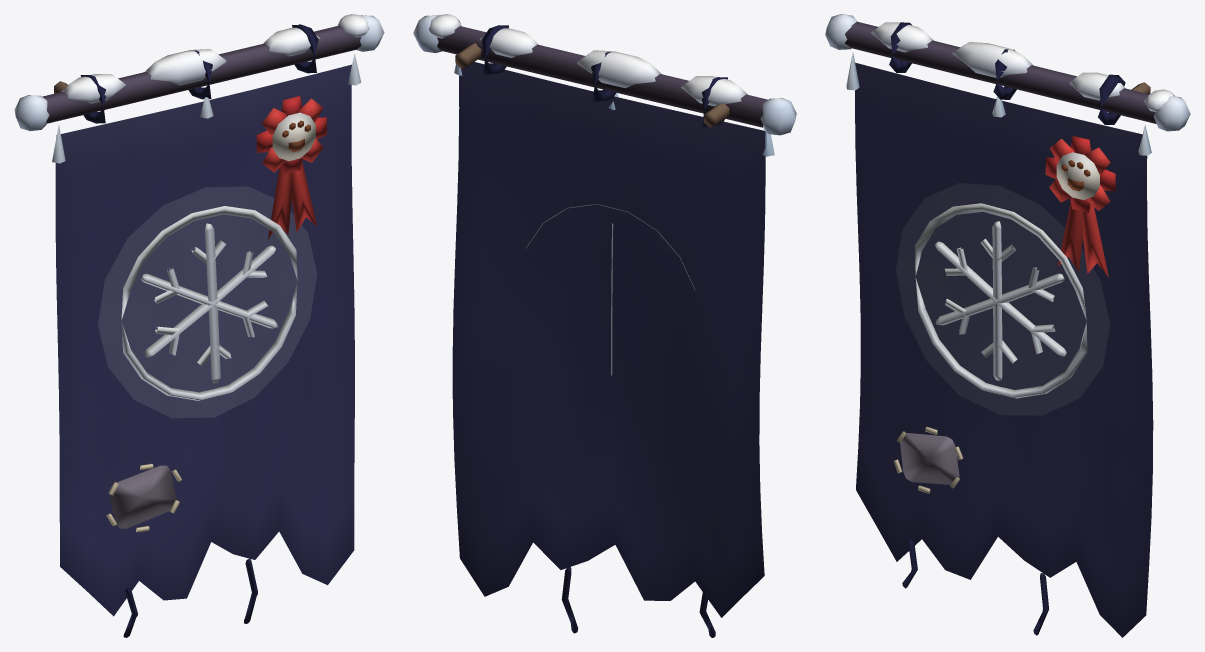
File: furn-bannerFrostbelly.glb
The picture shows the model from 3 angles, left to right: view 1: azimuth 30°, elevation 25°; view 2: azimuth 150°, elevation 25°; view 3: azimuth 330°, elevation 25°; orthographic projection. The views are drawn at different scales.
Visible parts, largest first — view 1: furn-bannerFrostbelly; view 2: furn-bannerFrostbelly; view 3: furn-bannerFrostbelly.
Boxes of the visible parts, x1=… form: furn-bannerFrostbelly: x1=14, y1=14, x2=384, y2=637; furn-bannerFrostbelly: x1=413, y1=14, x2=796, y2=637; furn-bannerFrostbelly: x1=825, y1=14, x2=1190, y2=637.
Size of the model in its own units: 0.5176 by 0.7846 by 0.0909.
